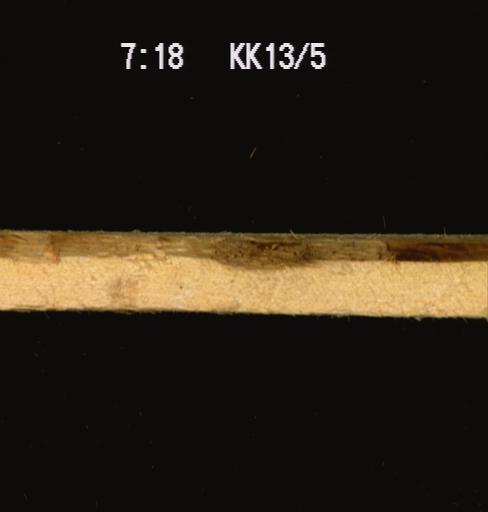wave: (0, 212, 487, 266)
